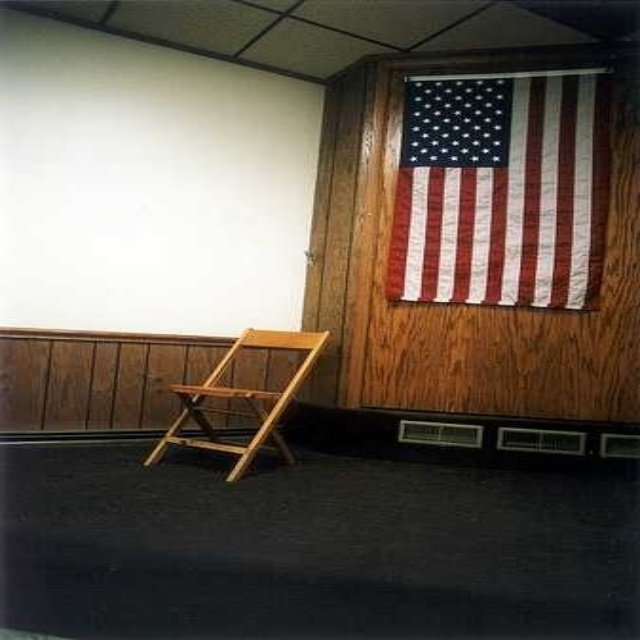obstacle: (142, 329, 329, 483)
